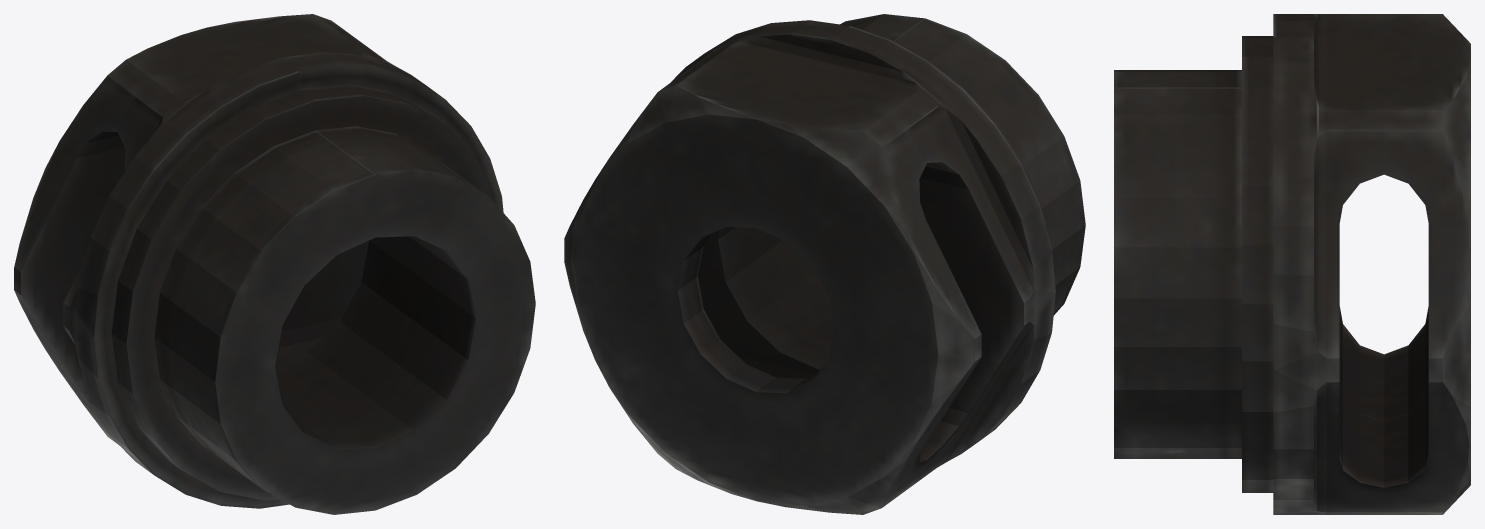
3 views of the same model, side by side, from view 1: azimuth 30°, elevation 25°; view 2: azimuth 150°, elevation 25°; view 3: azimuth 270°, elevation 25° (orthographic). The views are drawn at different scales.
Parts seen in each view (by area): view 1: TW_5fbcbd02900b1d5091531dd3_PZ_Import; view 2: TW_5fbcbd02900b1d5091531dd3_PZ_Import; view 3: TW_5fbcbd02900b1d5091531dd3_PZ_Import.
Part boxes in pixels (x1=…): TW_5fbcbd02900b1d5091531dd3_PZ_Import: x1=14, y1=14, x2=535, y2=514; TW_5fbcbd02900b1d5091531dd3_PZ_Import: x1=564, y1=14, x2=1085, y2=514; TW_5fbcbd02900b1d5091531dd3_PZ_Import: x1=1114, y1=14, x2=1470, y2=514.
Bounding box in the file's own units: 0.0139 × 0.00991 × 0.0139.
Materials: 1 (1 with a texture image).
